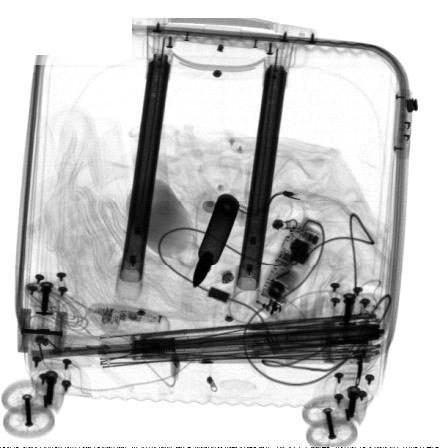Bullet: (192, 193, 240, 290)
